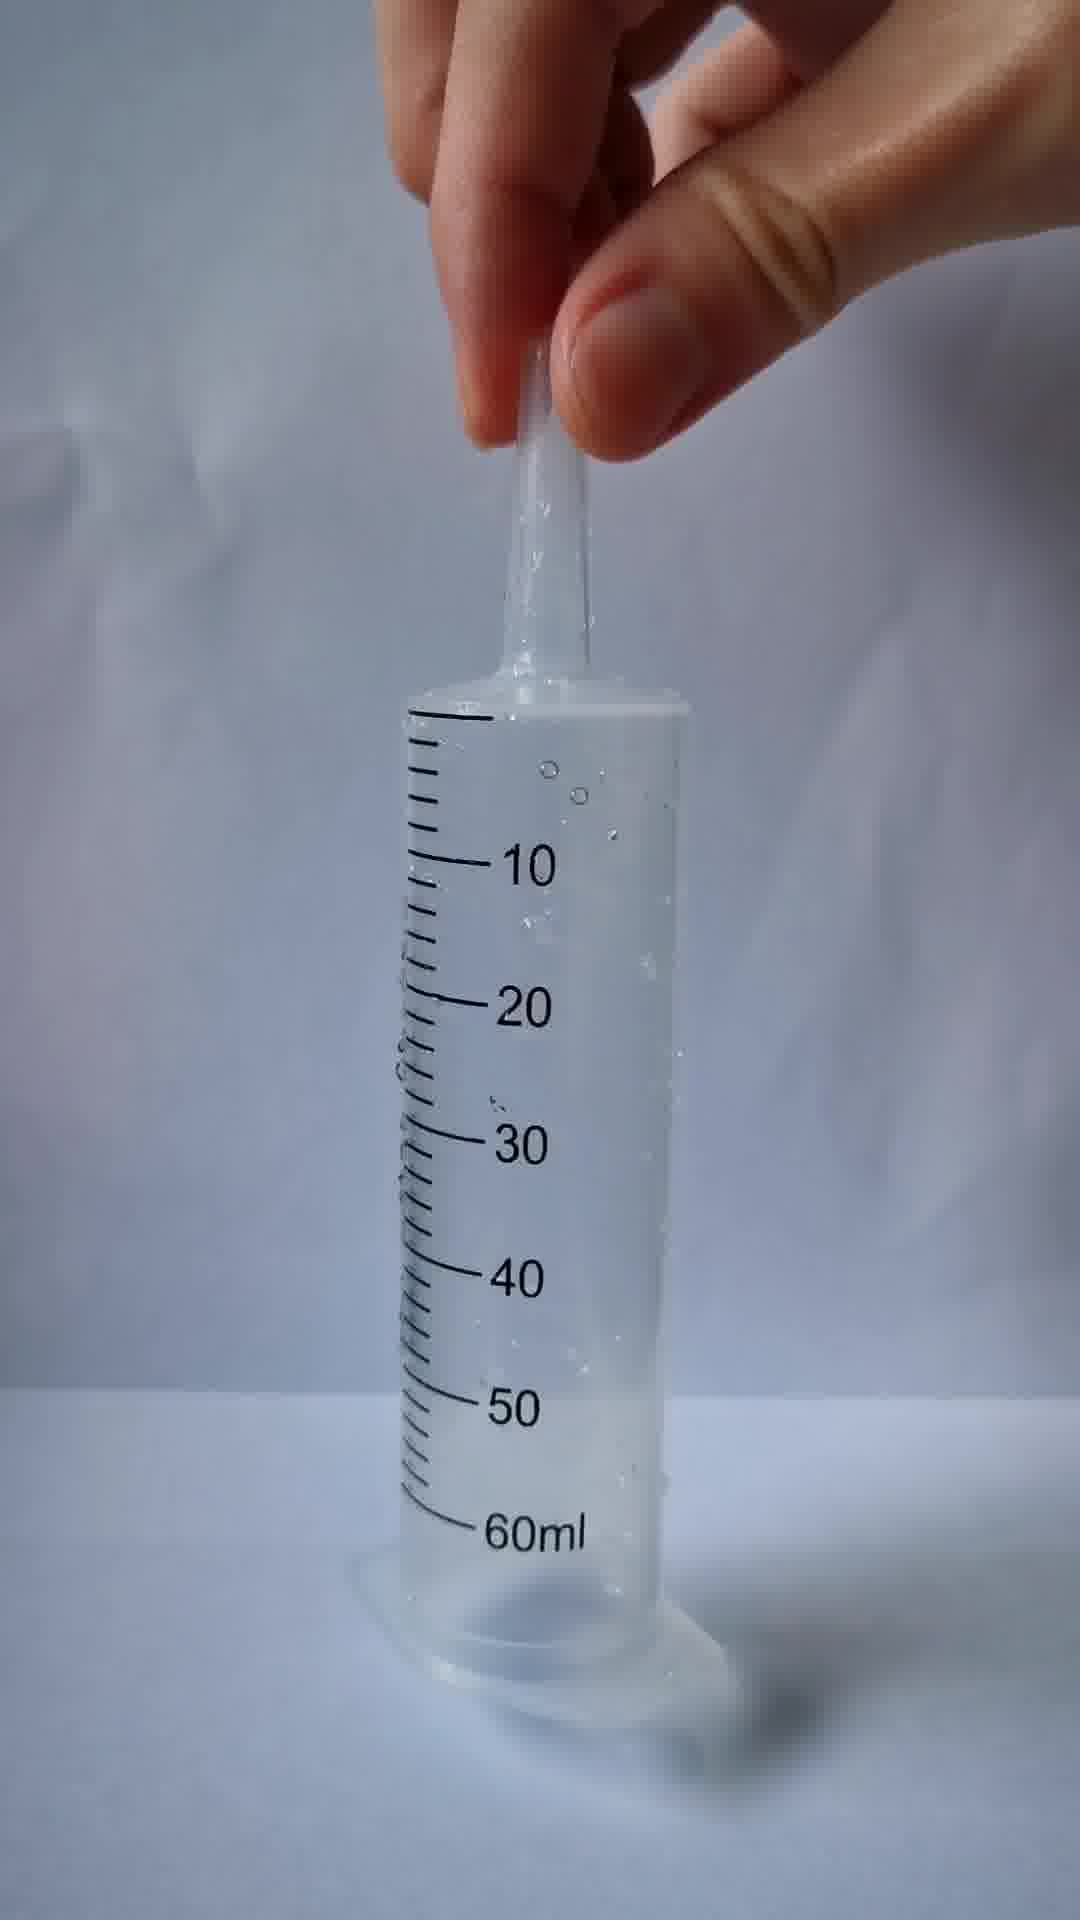syringe: (340, 342, 740, 1724)
